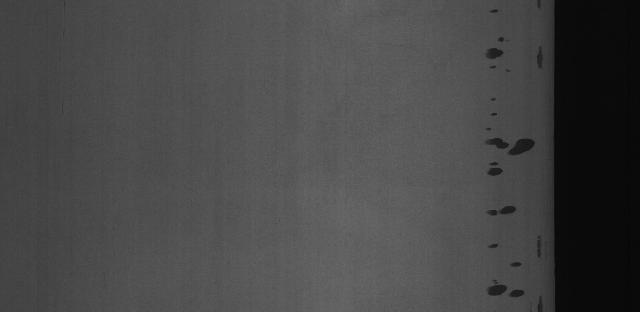oil_spot: (474, 120, 540, 182), (480, 278, 548, 312), (480, 197, 527, 221), (482, 33, 518, 62), (529, 45, 549, 72), (487, 86, 502, 119), (482, 233, 507, 252), (530, 237, 548, 260), (484, 7, 504, 20), (530, 0, 547, 14), (508, 263, 524, 276)
